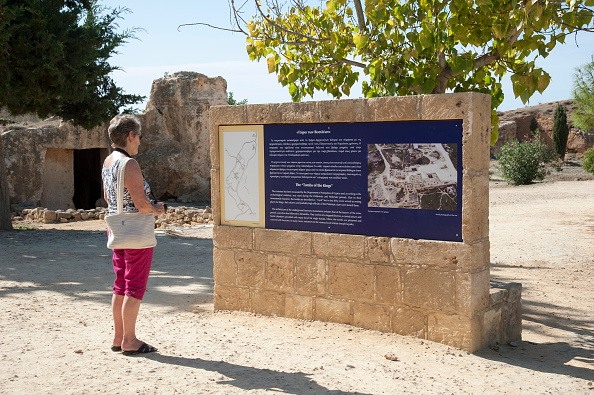em pe: (96, 114, 152, 363)
